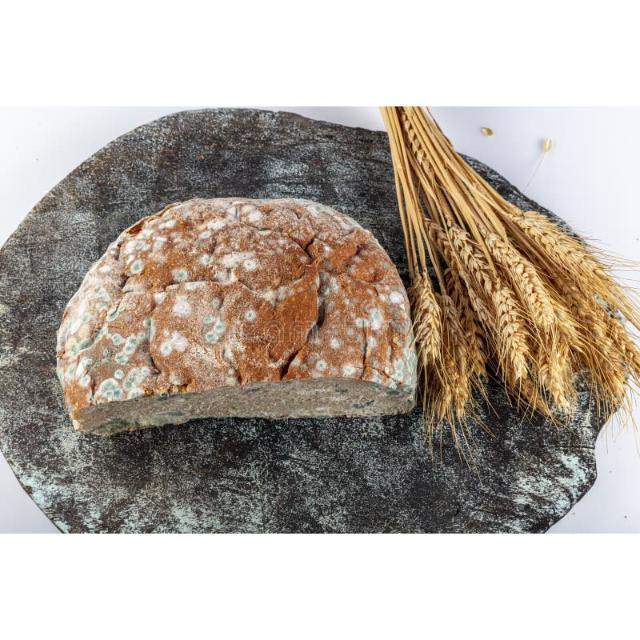organic: (378, 107, 640, 447), (54, 197, 419, 440)
